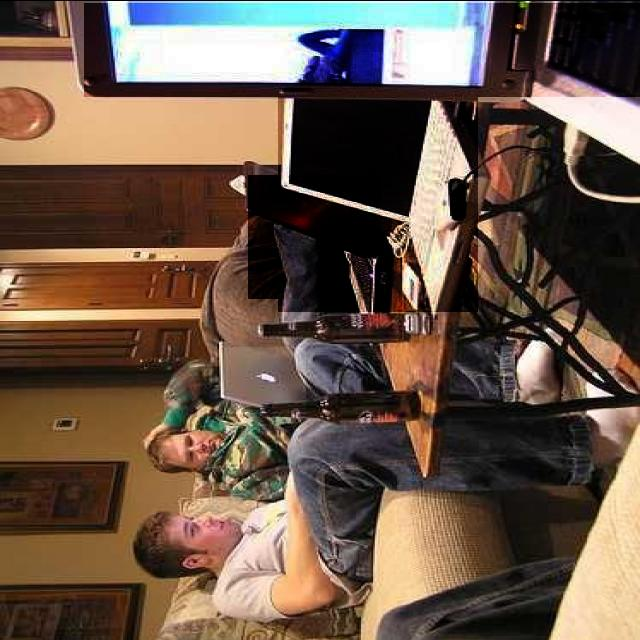-keyboard-: (84, 3, 640, 97), (278, 96, 478, 312), (248, 175, 381, 299), (224, 347, 306, 414)
